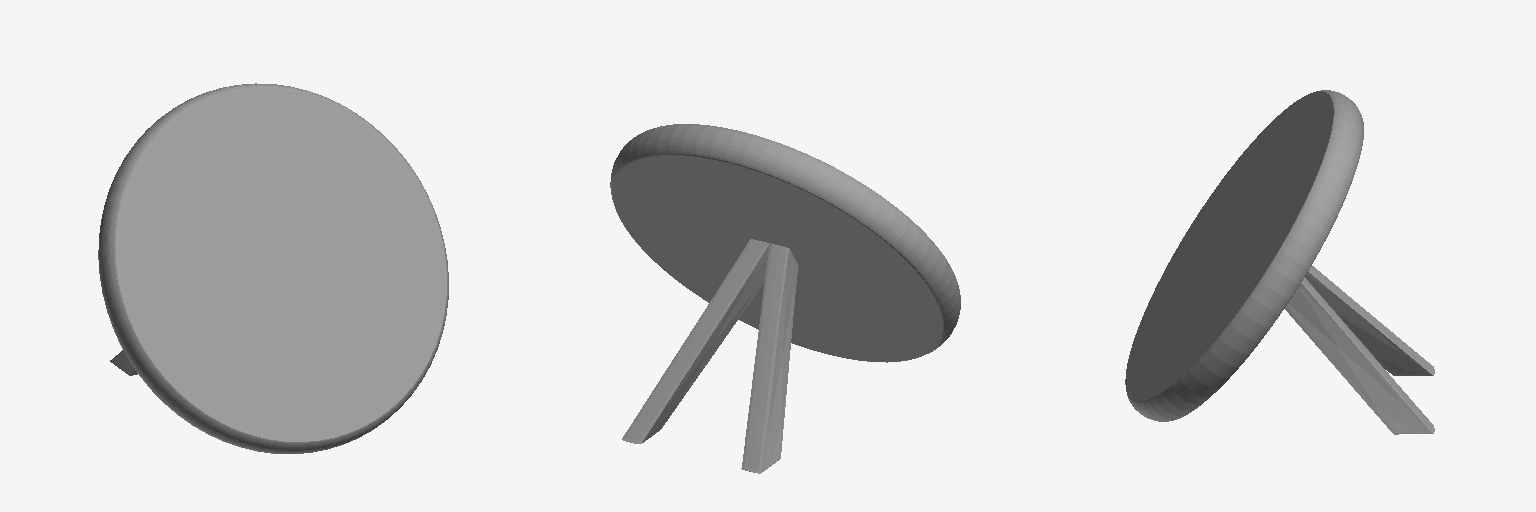
The model's file is Target.obj.
The picture shows the model from 3 angles: view 1: azimuth 30°, elevation 25°; view 2: azimuth 150°, elevation 25°; view 3: azimuth 270°, elevation 25°; orthographic projection.
Parts seen in each view (by area): view 1: Target_Circle; view 2: Target_Circle; view 3: Target_Circle.
Boxes of the visible parts, <box> form: Target_Circle: <box>98,83,448,453</box>; Target_Circle: <box>610,124,960,473</box>; Target_Circle: <box>1125,90,1434,434</box>.
Size of the model in its own units: 2.07 by 1.75 by 1.69.